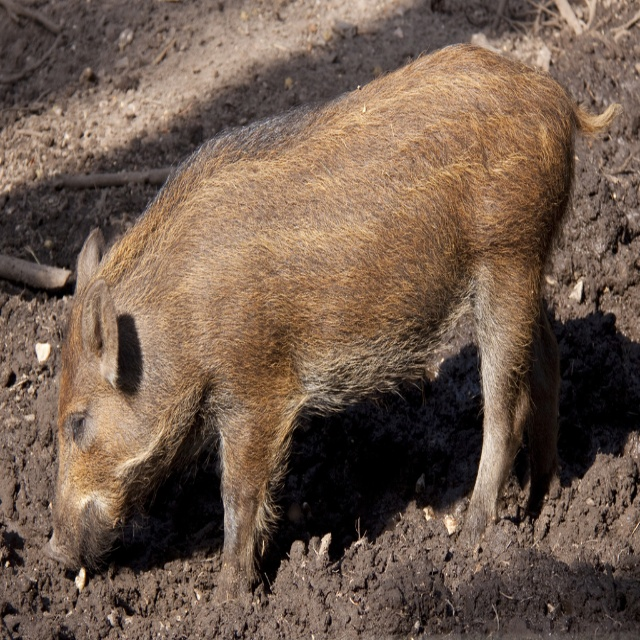Pig: (42, 42, 624, 601)
